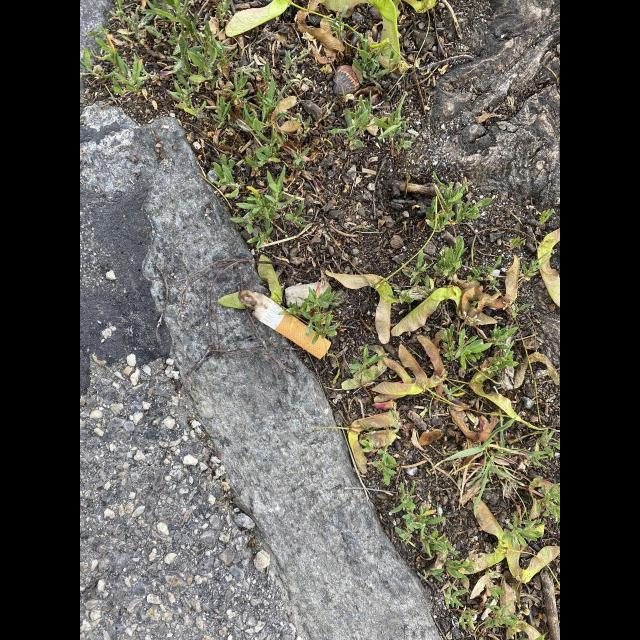cigarette: (237, 286, 331, 360)
